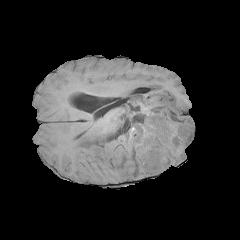glioma: (65, 75, 193, 180)
